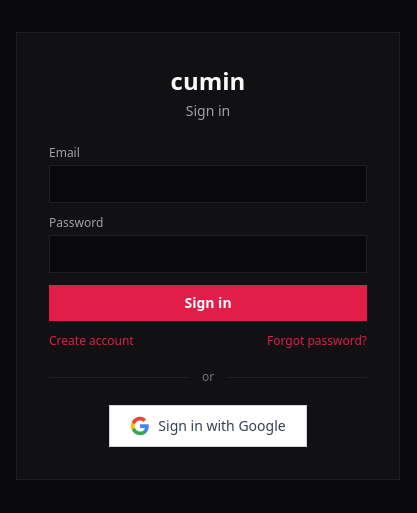
LoginPage › shows the server error on a bad login
This screenshot has width=417, height=513.
Type "a@b.co" into the field labelled "Email" at point(208, 184), box [49, 165, 367, 203]
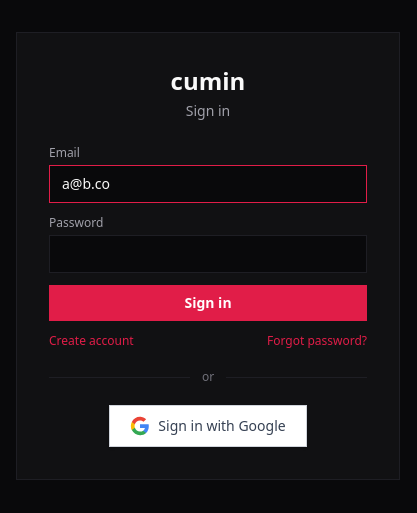
Type "wrong-password" into the password field labelled "Password" at point(208, 254), box [49, 235, 367, 273]
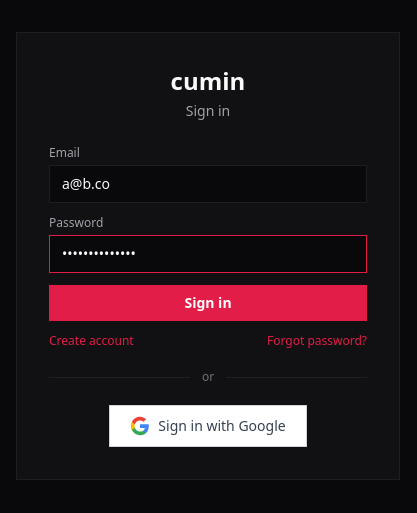
Click the button "Sign in" at point(208, 303), box [49, 285, 367, 321]
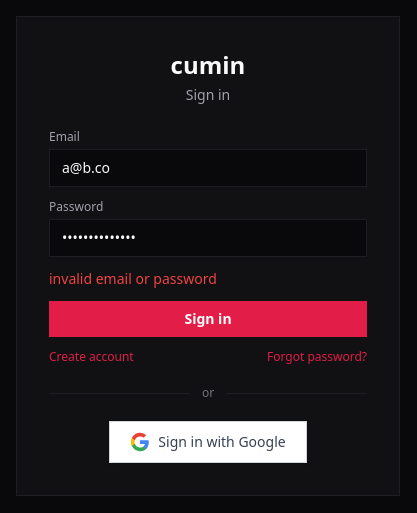
Check: the message reads "invalid email or password", box [49, 269, 217, 288]
